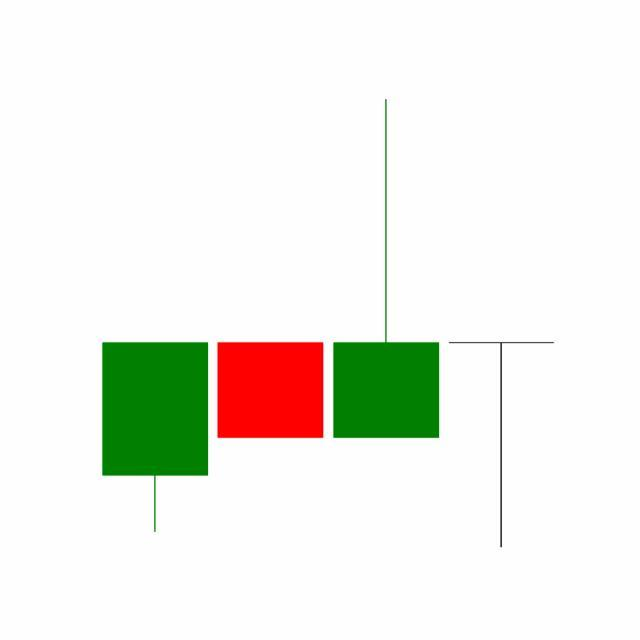Dragonfly Doji: (444, 340, 560, 550)
